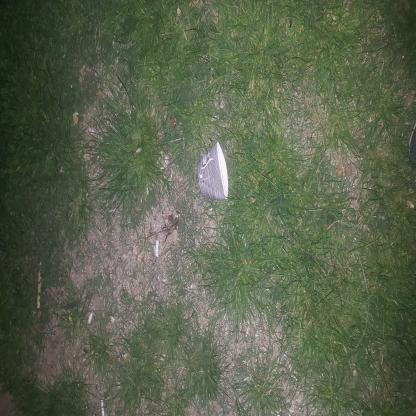trash: (119, 347, 158, 412)
